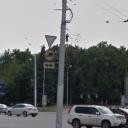preferencia: (44, 33, 58, 48)
